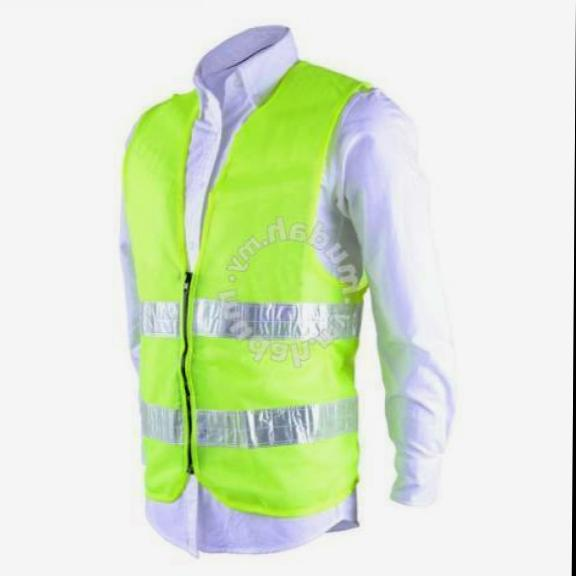safety_vest: (121, 65, 384, 517)
